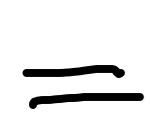eqv: (17, 64, 145, 112)
